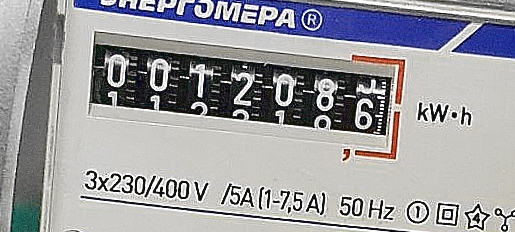0: (101, 48, 131, 89), (145, 54, 172, 93), (269, 69, 296, 107)
1: (187, 59, 211, 100)
2: (228, 68, 257, 108)
6: (349, 93, 376, 131)
8: (310, 74, 338, 113)
screen: (77, 23, 415, 165)
